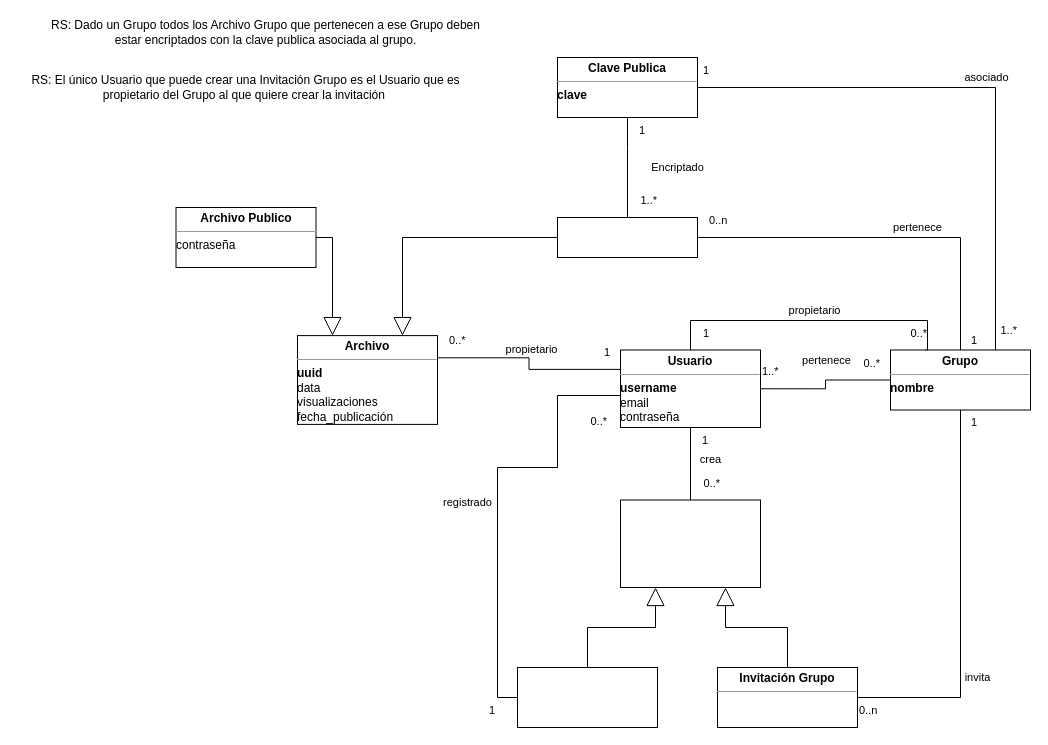
This 1048x745 diagram has some shape labels left out. Here are the shapes that lost their labels. From the top down, the box of each, then its label:
(556, 216, 698, 258): Archivo Grupo
(620, 499, 760, 588): Invitación uuid fecha_caducidad usos_maximos usos_utilizados
(516, 666, 658, 728): Invitación Registro
